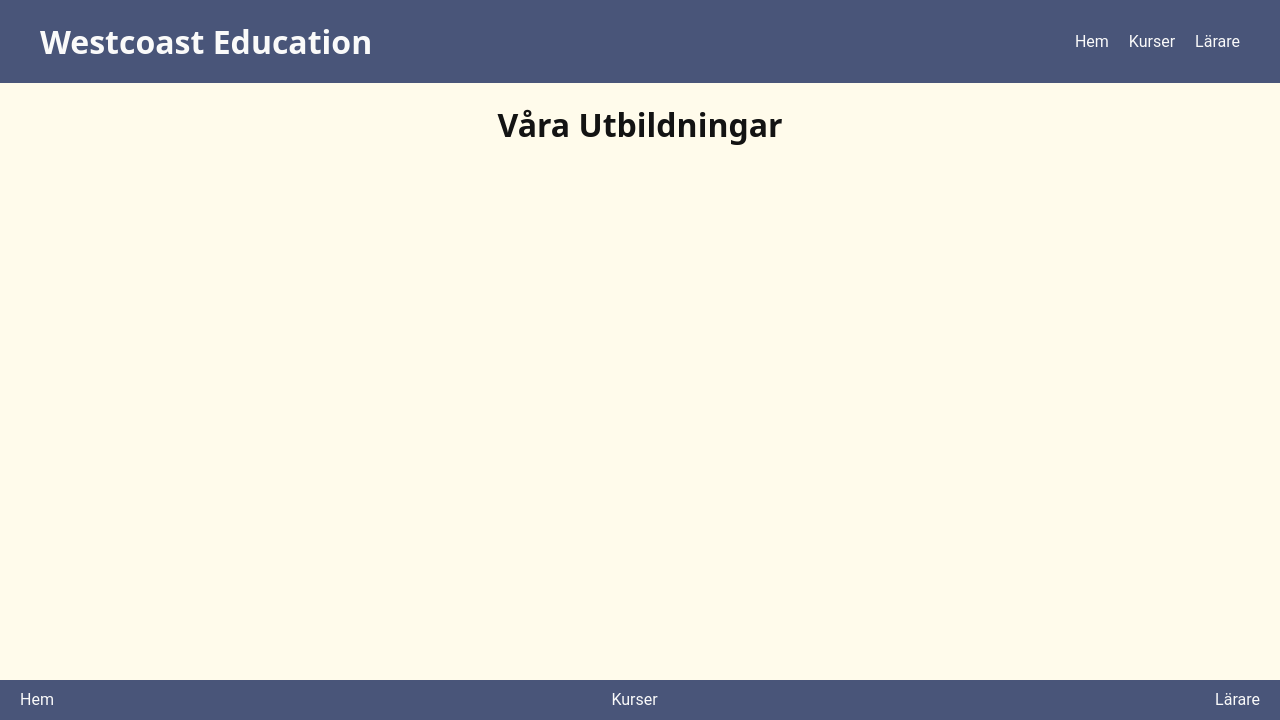
Scenario: Routing › Navigation and rendering correct component
Expected: the heading "Våra Utbildningar" is shown, [498,103,783,146]
Click the link "Lärare" in the row of "Westcoast Education" at (1218, 42), box [1195,32,1240,51]
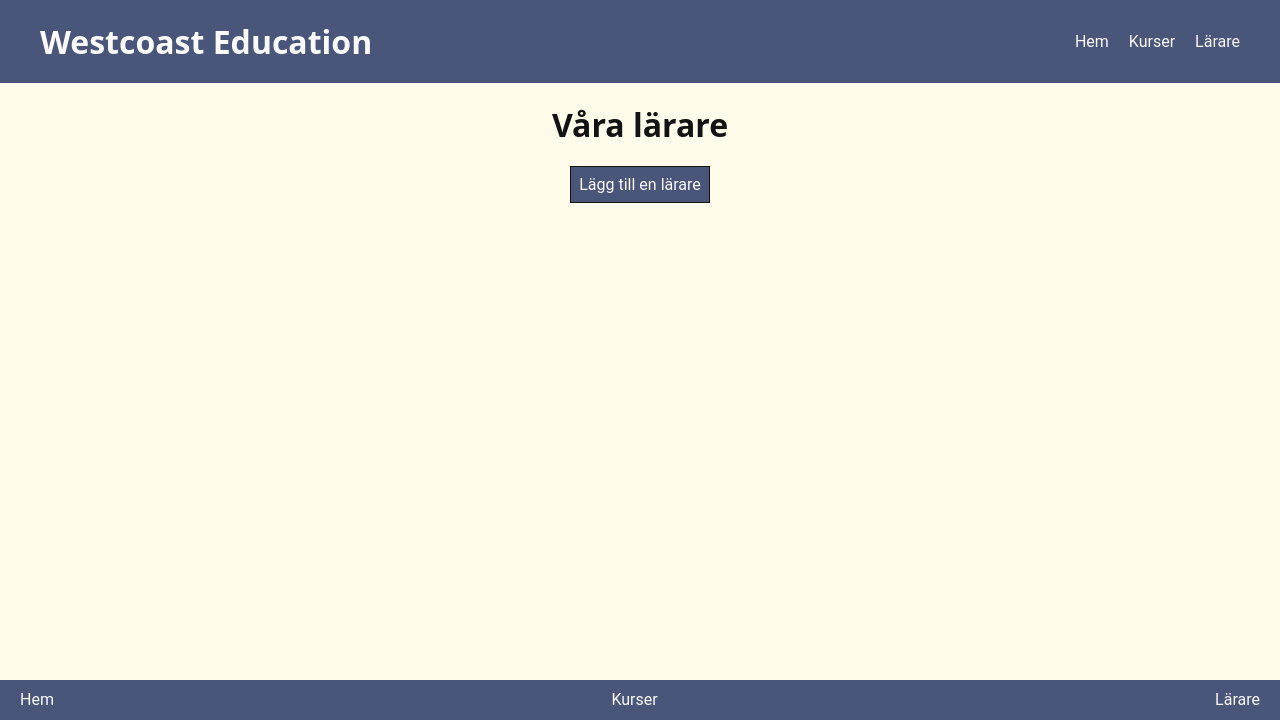
Now the heading "Våra lärare" is shown, box [552,103,728,146]
Click the link "Kurser" in the row of "Westcoast Education" at (1152, 42), box [1129,32,1175,51]
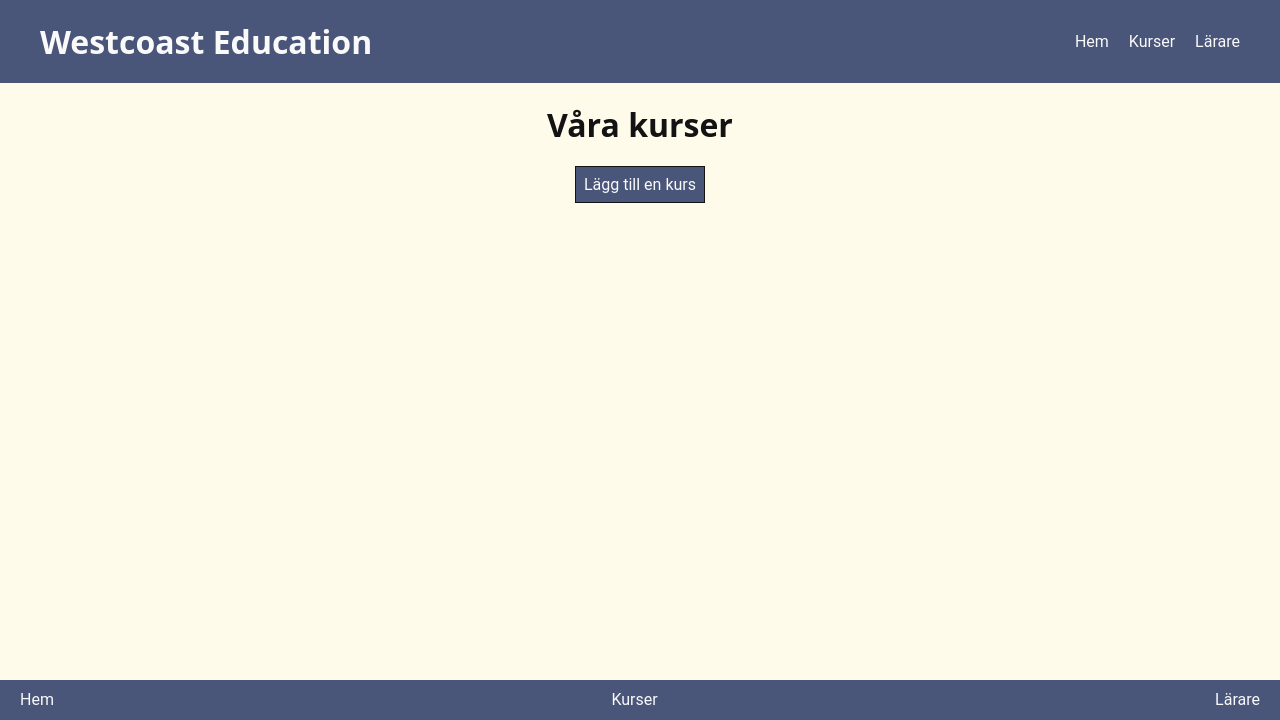
Now the heading "Våra kurser" is shown, box [547,103,733,146]
